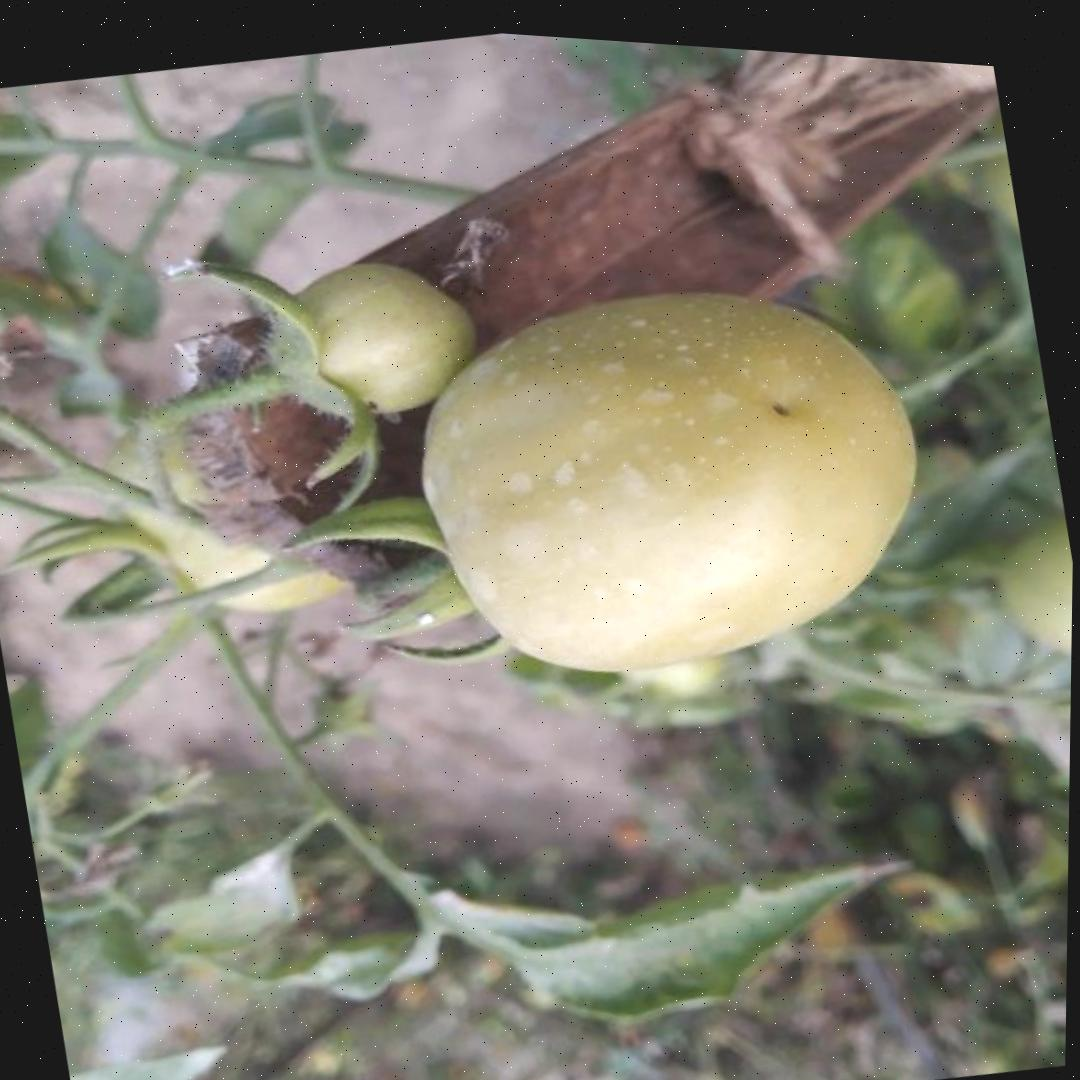mentah: (387, 232, 959, 727), (261, 236, 487, 437)
